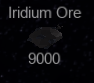Iridium: (7, 5, 82, 65)
